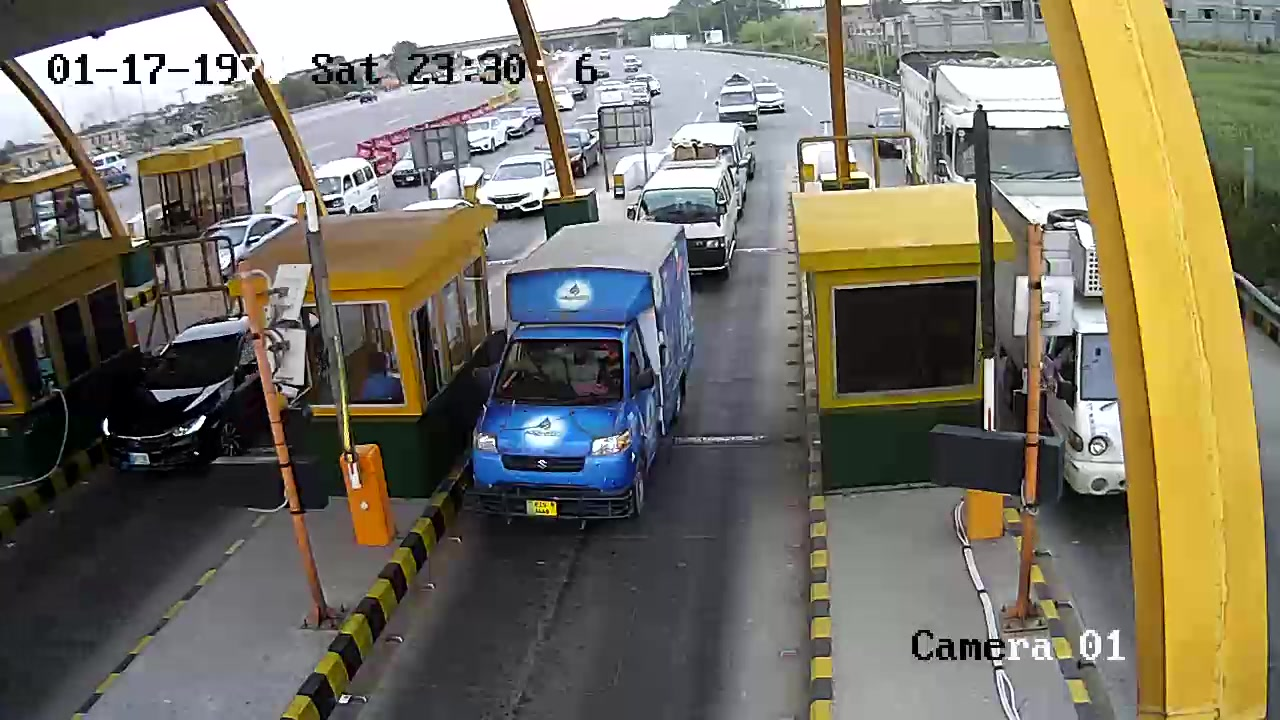F2: (477, 208, 698, 518)
